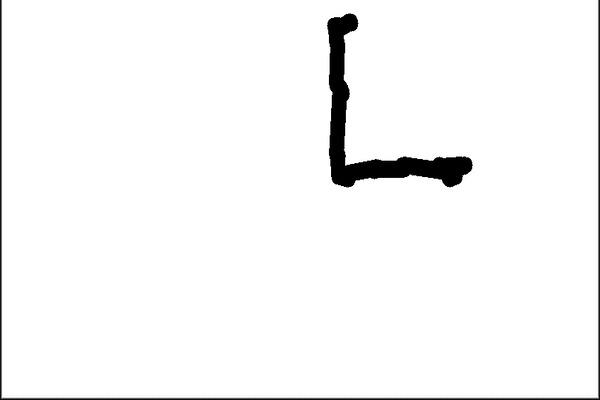L: (318, 7, 476, 192)
